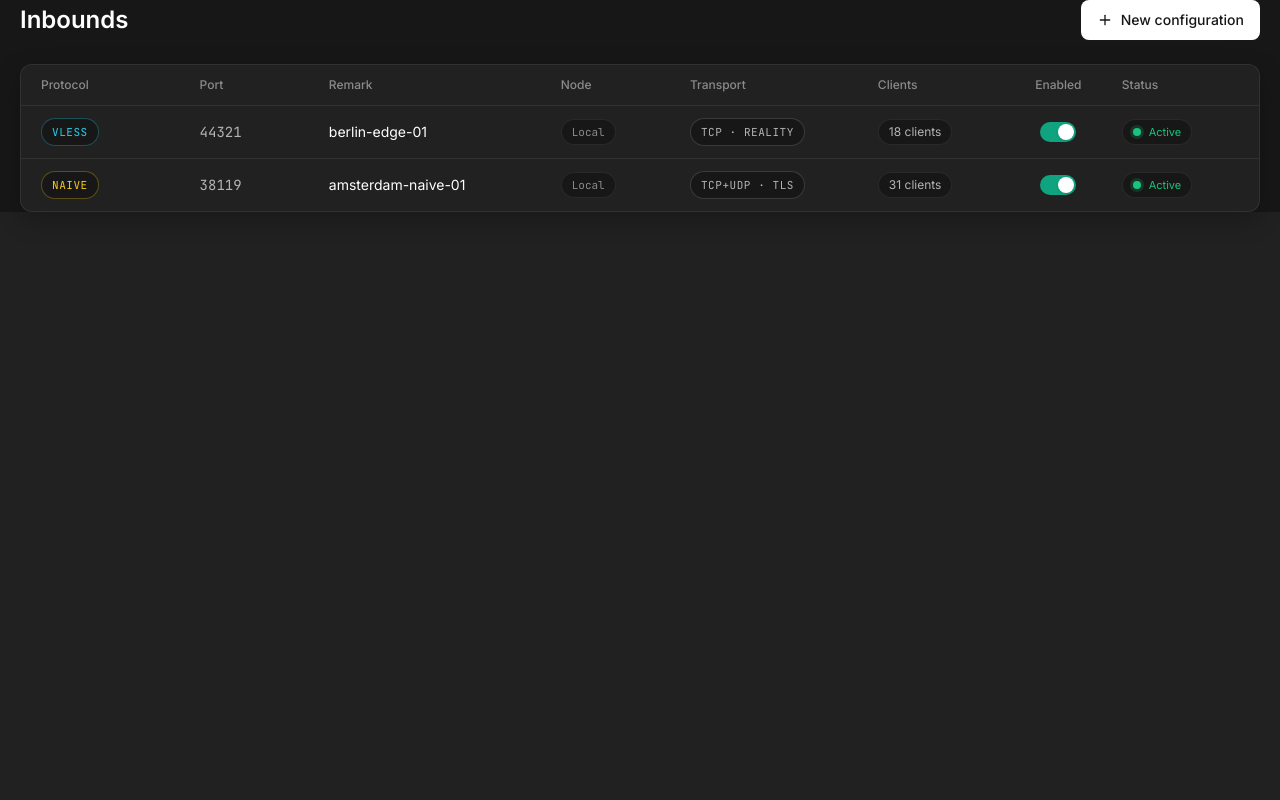
shows a confirmation modal before deleting an inbound
The width and height of the screenshot is (1280, 800).
Click the text "berlin-edge-01" at point(378, 132), box [329, 123, 427, 140]
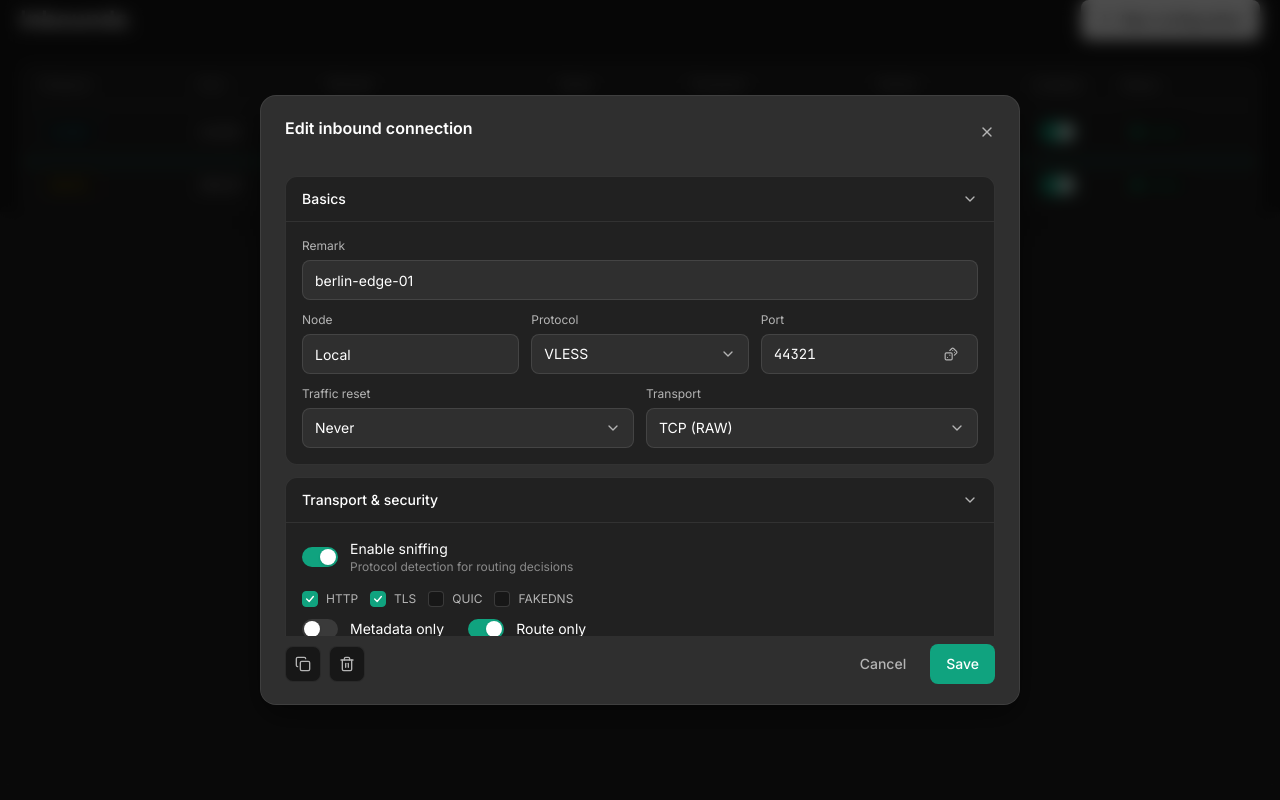
Click the button named "Delete" at point(347, 664), box [329, 646, 365, 682]
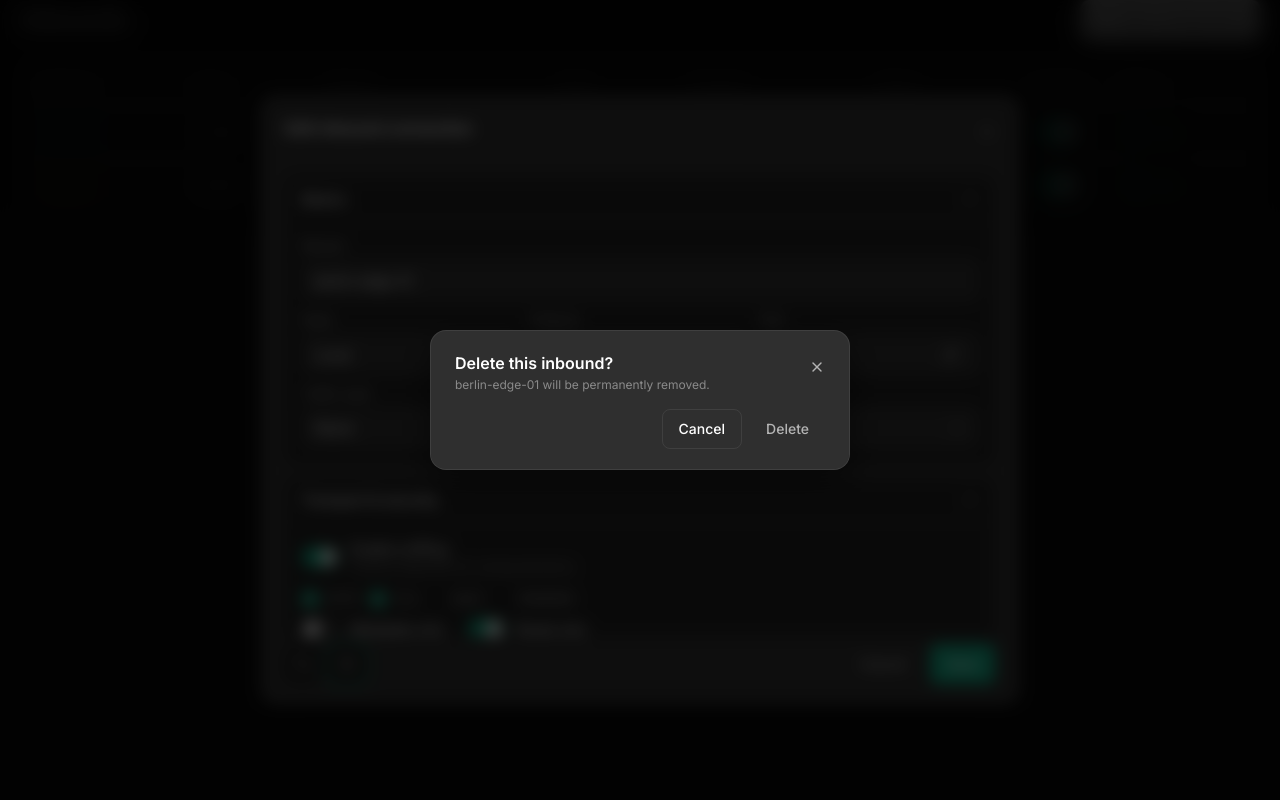
Check: the heading "Delete this inbound?" is shown, box [455, 353, 613, 373]
